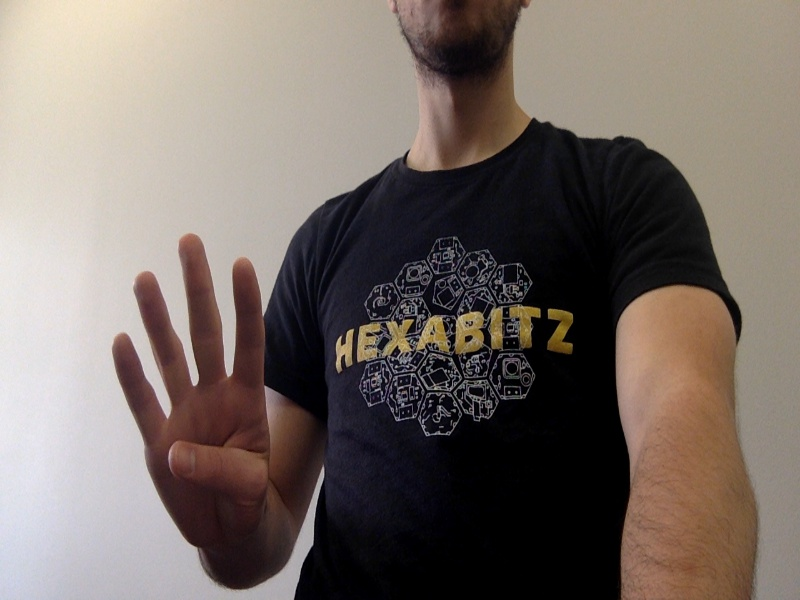4-hand: (115, 238, 269, 543)
